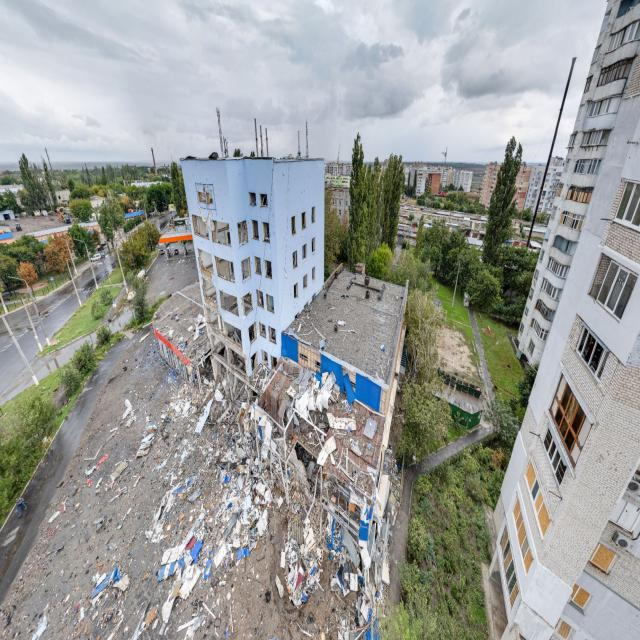broken_window: (548, 371, 592, 468), (524, 458, 552, 540), (511, 492, 534, 576), (542, 423, 568, 487)
building: (487, 0, 639, 638), (179, 150, 325, 395)
damaged_roof: (282, 260, 409, 392)
